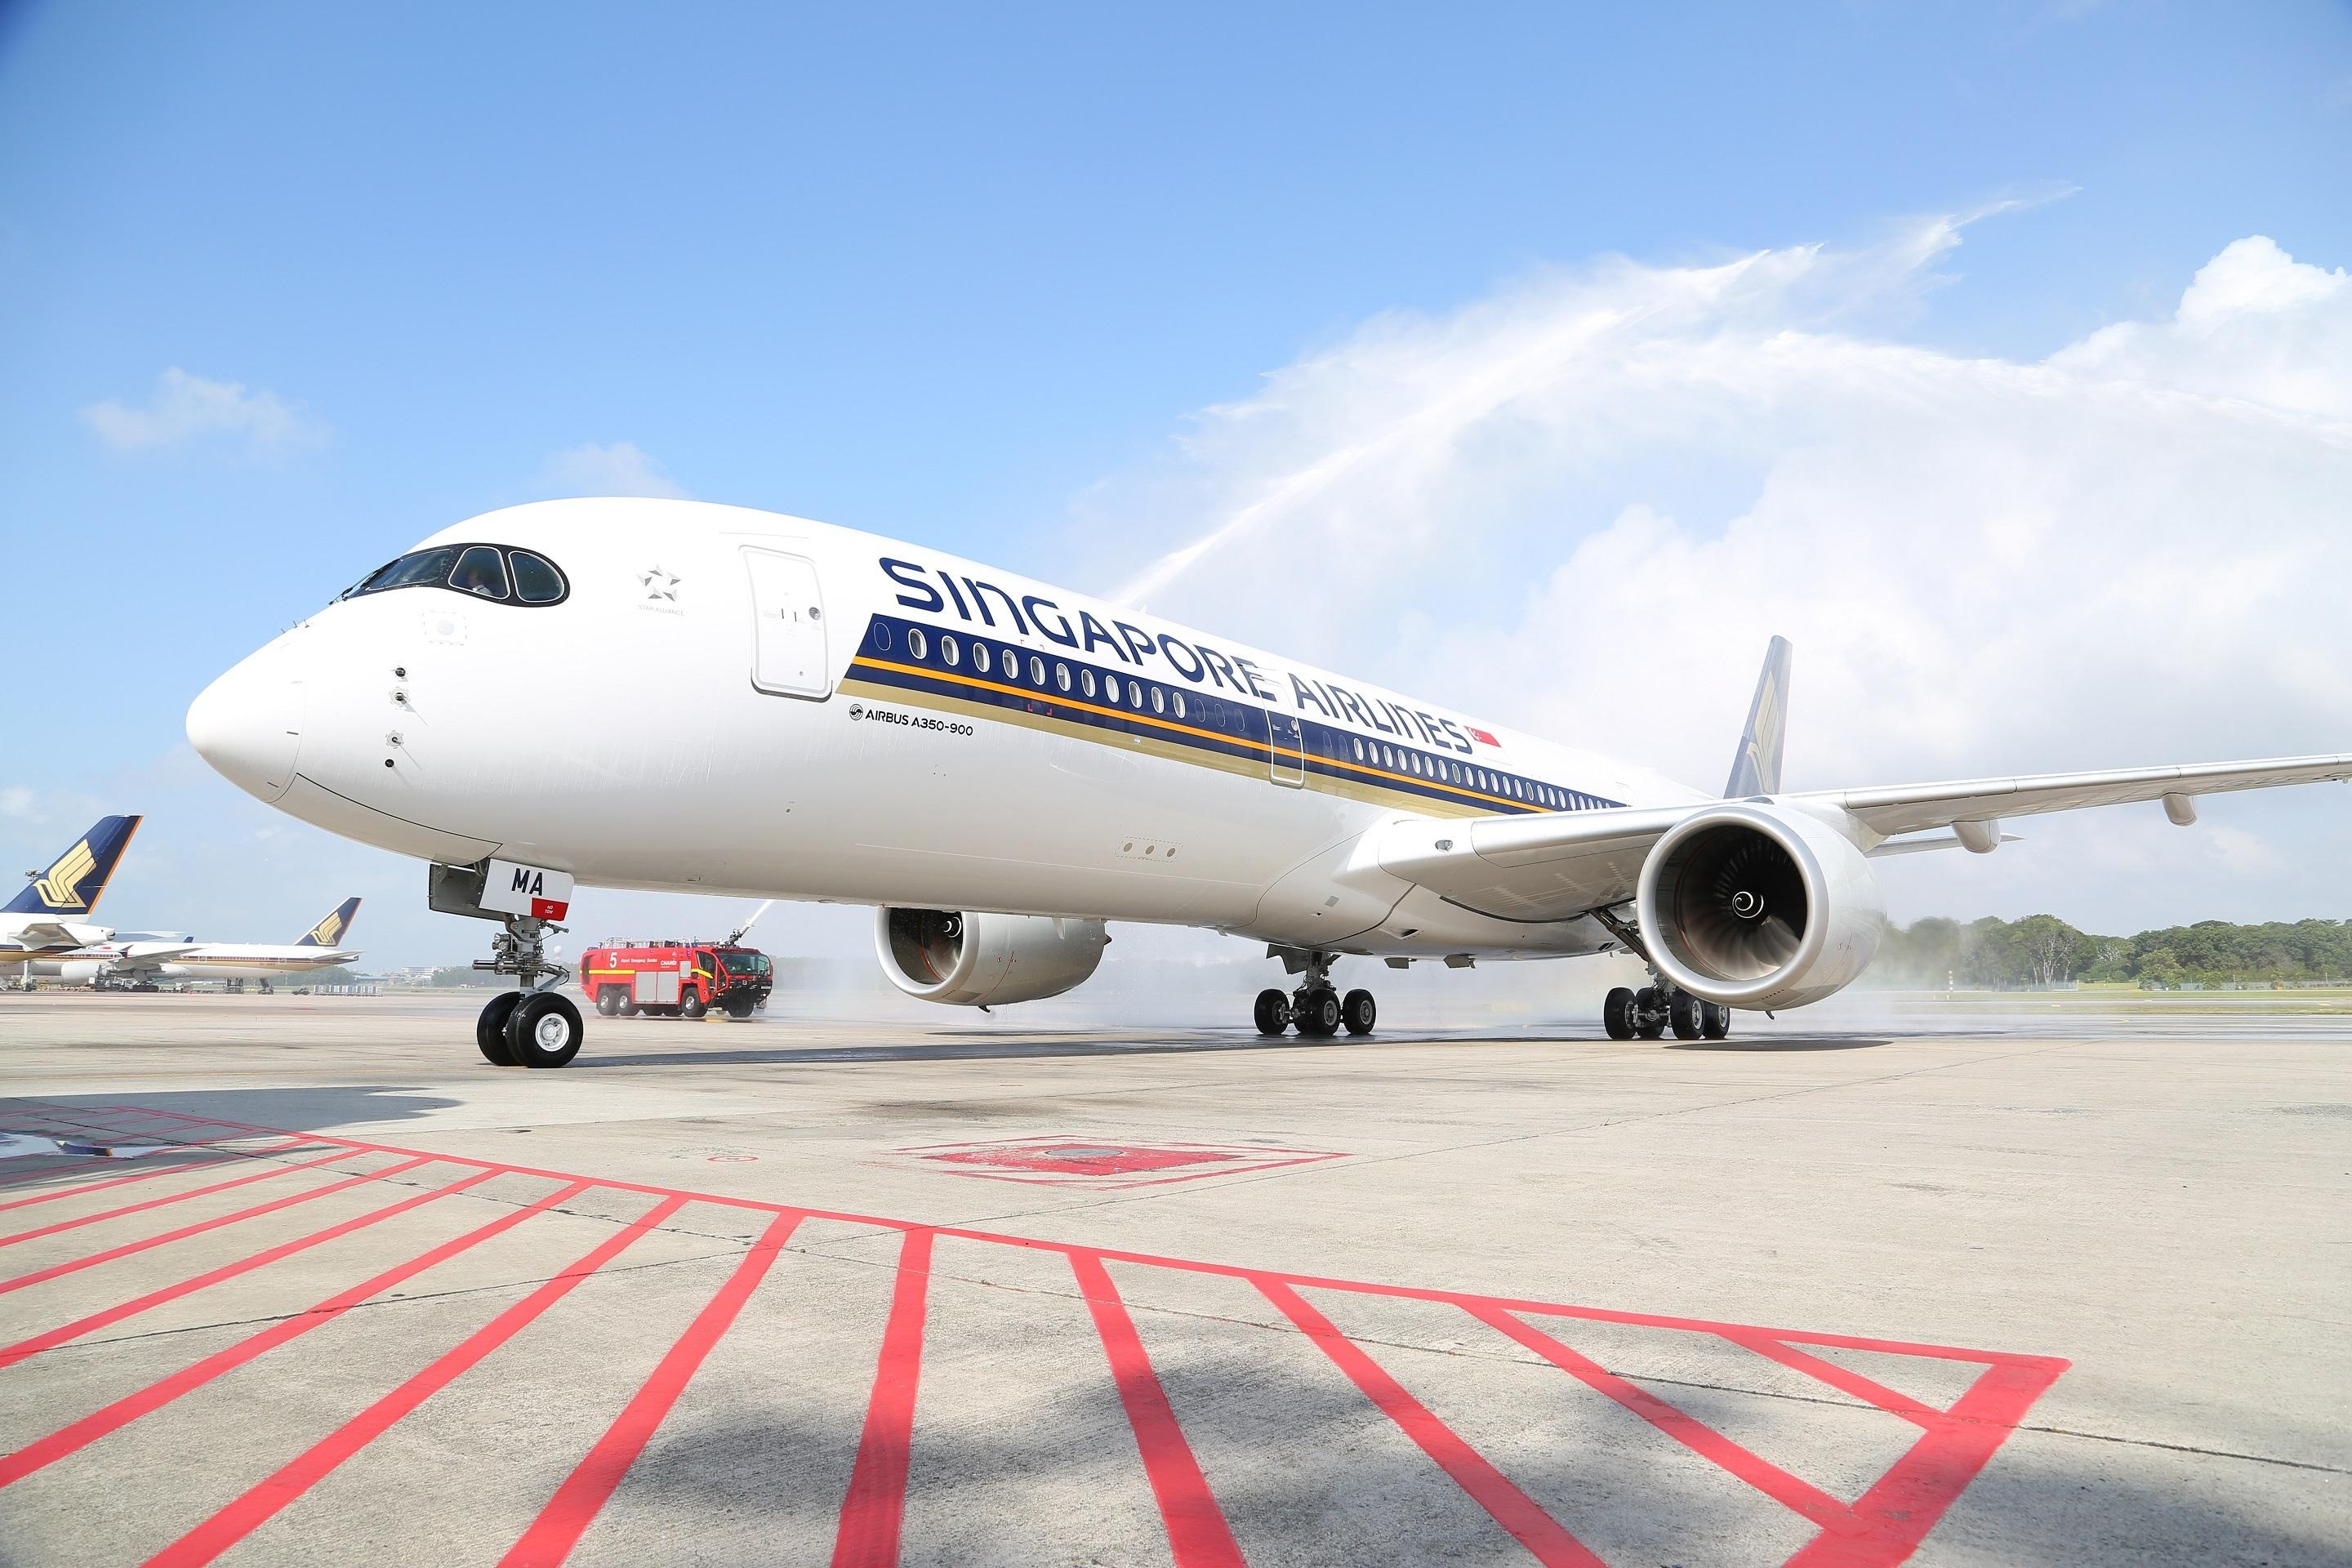airplane: (121, 476, 2352, 1066)
